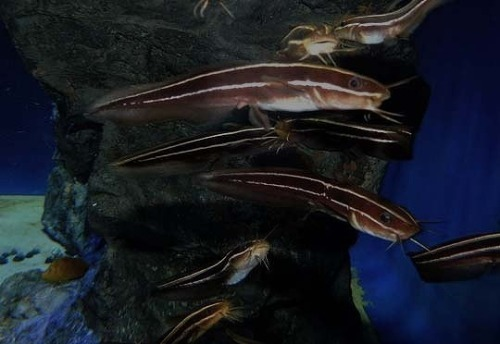gonzui: (92, 60, 419, 128)
